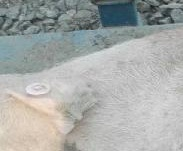text: (16, 73, 56, 106)
